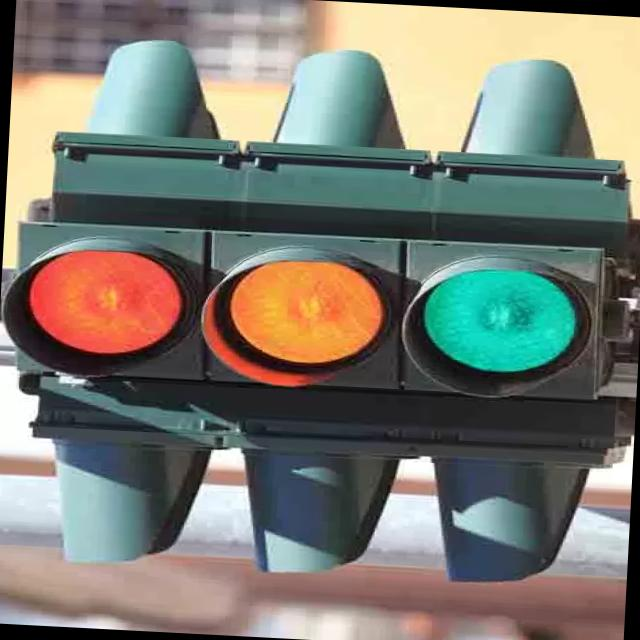green-lights: (420, 262, 580, 376)
red-lights: (23, 244, 186, 358)
yellow-lights: (227, 254, 387, 368)
